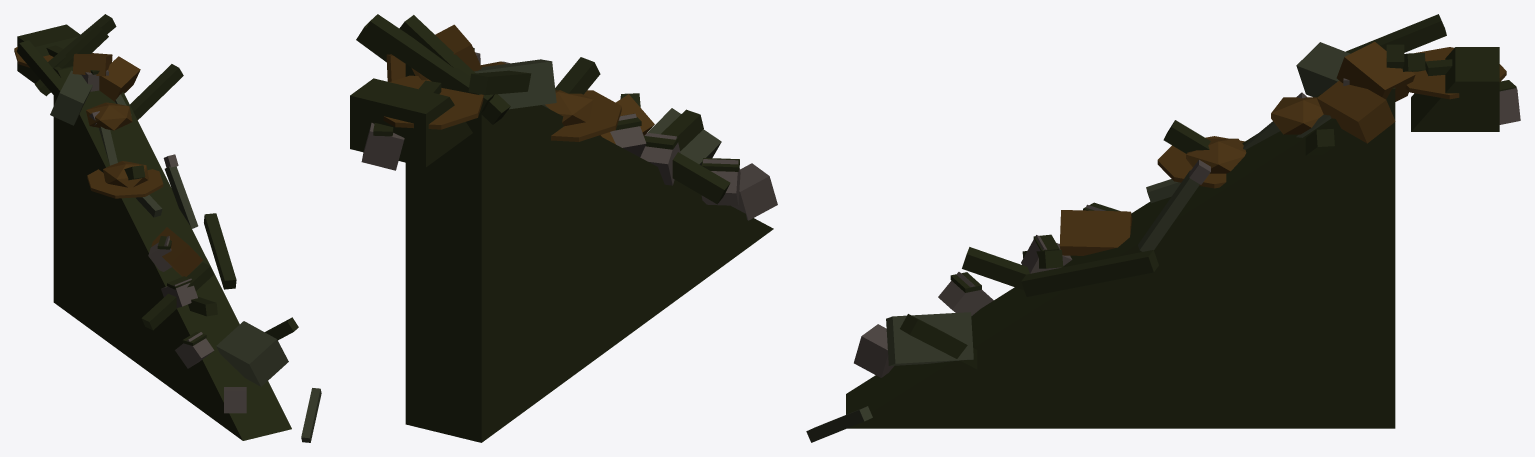
File: SM_PilaZombi_Altura5_s2_LOD0.fbx
3 renders of one model, left to right at view 1: azimuth 30°, elevation 25°; view 2: azimuth 150°, elevation 25°; view 3: azimuth 270°, elevation 25°, orthographic. The views are drawn at different scales.
Parts seen in each view (by area): view 1: SM_pila_zombis_v14_LOD0; view 2: SM_pila_zombis_v14_LOD0; view 3: SM_pila_zombis_v14_LOD0.
Part boxes in pixels (<box>): SM_pila_zombis_v14_LOD0: <box>14,14,321,442</box>; SM_pila_zombis_v14_LOD0: <box>350,14,777,442</box>; SM_pila_zombis_v14_LOD0: <box>806,14,1520,442</box>.
Bounding box in the file's own units: 1.46 × 2.75 × 4.52.
